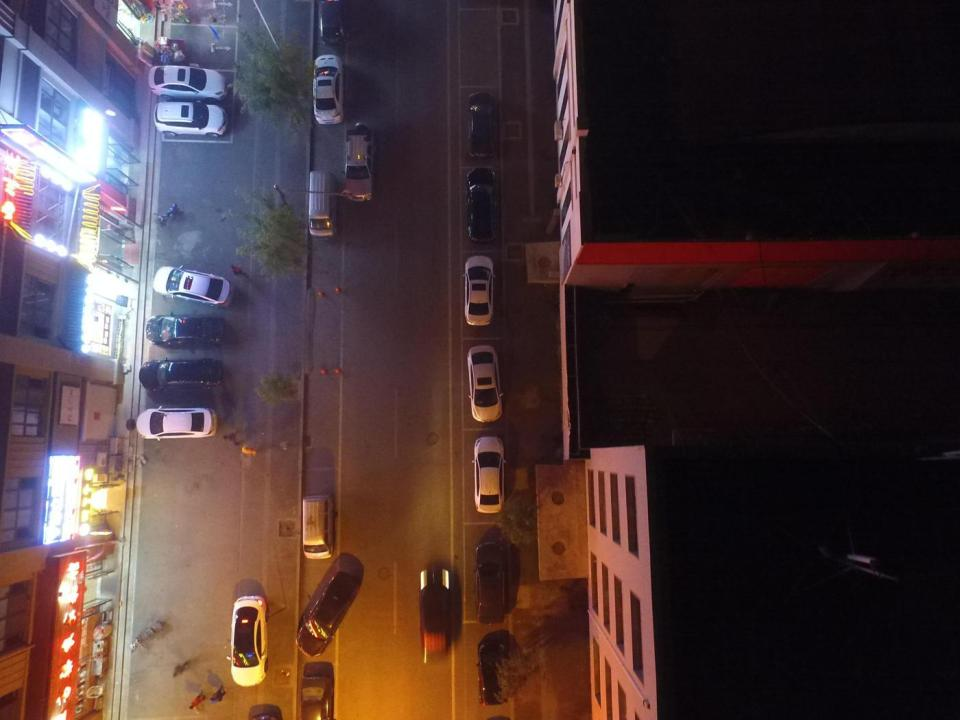car: (295, 572, 358, 655), (226, 596, 269, 686), (152, 266, 234, 308), (148, 66, 227, 103), (135, 405, 216, 441), (419, 568, 449, 664), (472, 542, 506, 624), (154, 101, 227, 139), (467, 345, 503, 422), (139, 358, 223, 391), (145, 313, 225, 345), (472, 437, 505, 513), (467, 167, 498, 242), (462, 255, 495, 325), (312, 55, 345, 124), (477, 640, 504, 706), (467, 92, 494, 156), (300, 676, 332, 720), (317, 0, 346, 45)
van: (344, 122, 375, 200), (301, 495, 333, 559), (309, 171, 338, 239)
